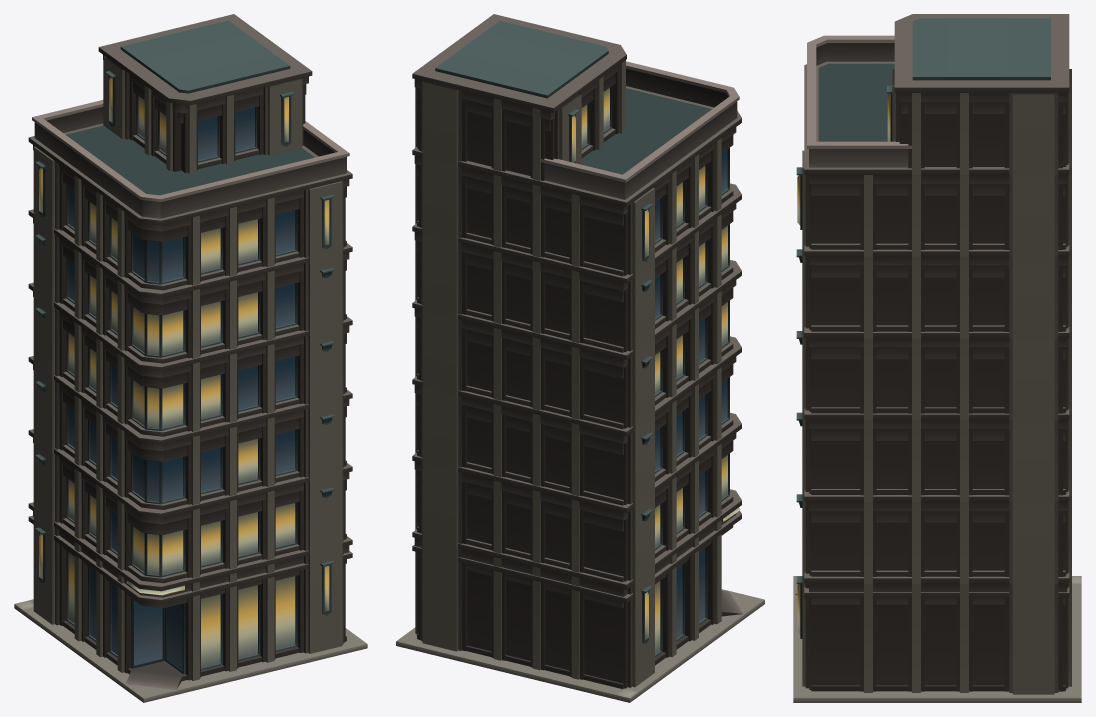
Rendered from Building_14A.fbx.
3 renders of one model, left to right at view 1: azimuth 30°, elevation 25°; view 2: azimuth 150°, elevation 25°; view 3: azimuth 270°, elevation 25°, orthographic. The views are drawn at different scales.
Visible parts, largest first — view 1: Building_14A, Window_Lights_14A; view 2: Building_14A, Window_Lights_14A; view 3: Building_14A.
Part boxes in pixels (left/top/right/bottom): Building_14A: left=14, top=14, right=367, bottom=702; Window_Lights_14A: left=68, top=96, right=295, bottom=667; Building_14A: left=396, top=14, right=764, bottom=702; Window_Lights_14A: left=581, top=88, right=727, bottom=654; Building_14A: left=793, top=14, right=1081, bottom=702.
Bounding box in the file's own units: 1600 × 3750 × 1600.
